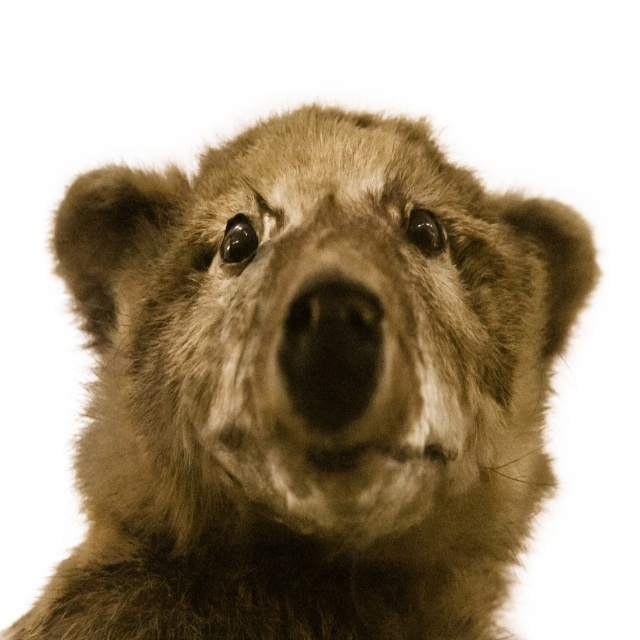Brown bear: (0, 103, 601, 639)
